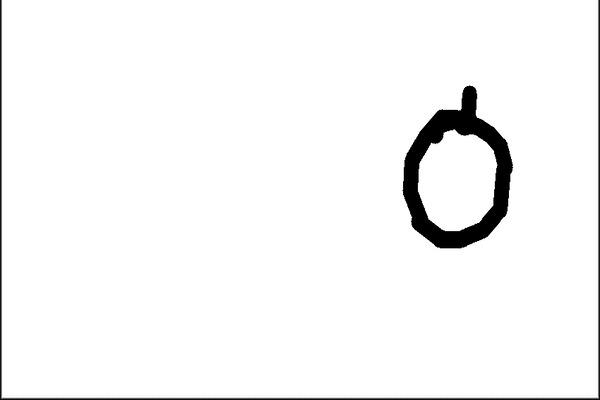O: (389, 83, 521, 262)
